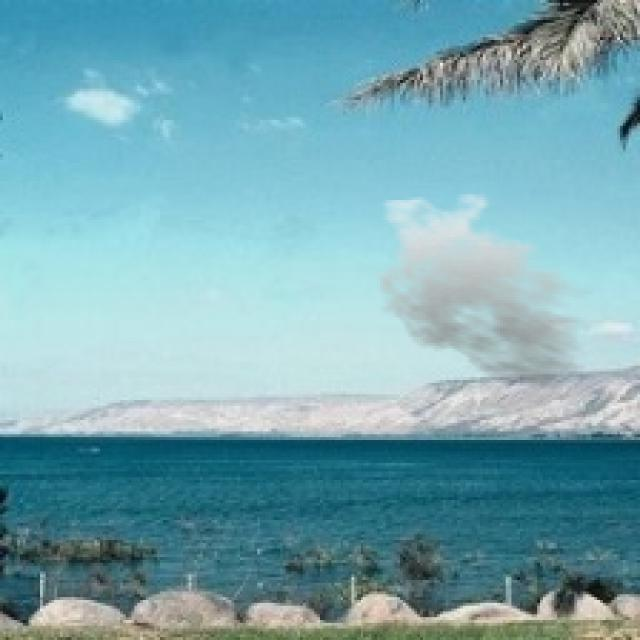smoke: (368, 192, 606, 392)
